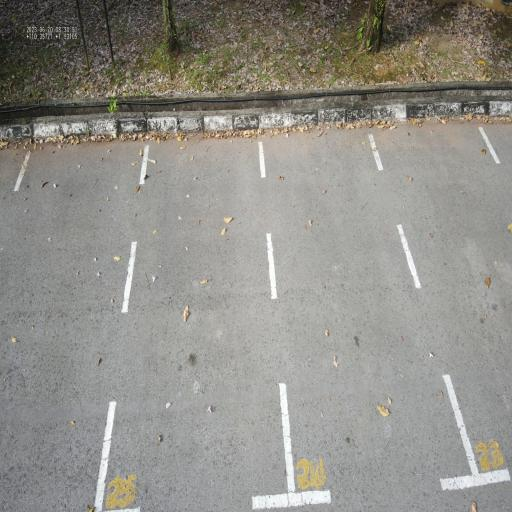Empty: (251, 123, 484, 509), (87, 119, 301, 512)
